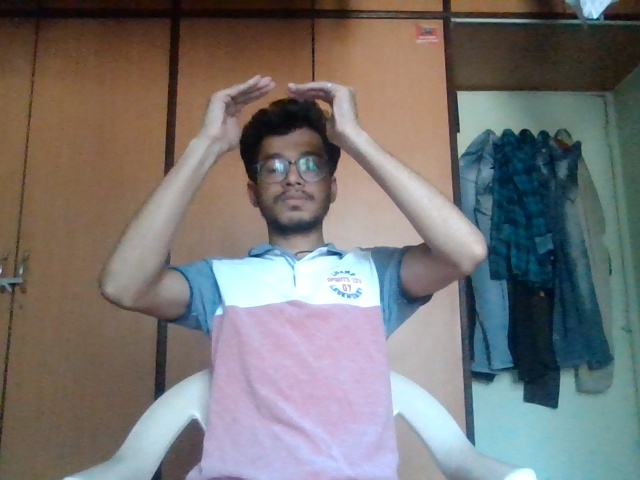afternoon: (194, 68, 394, 176)
